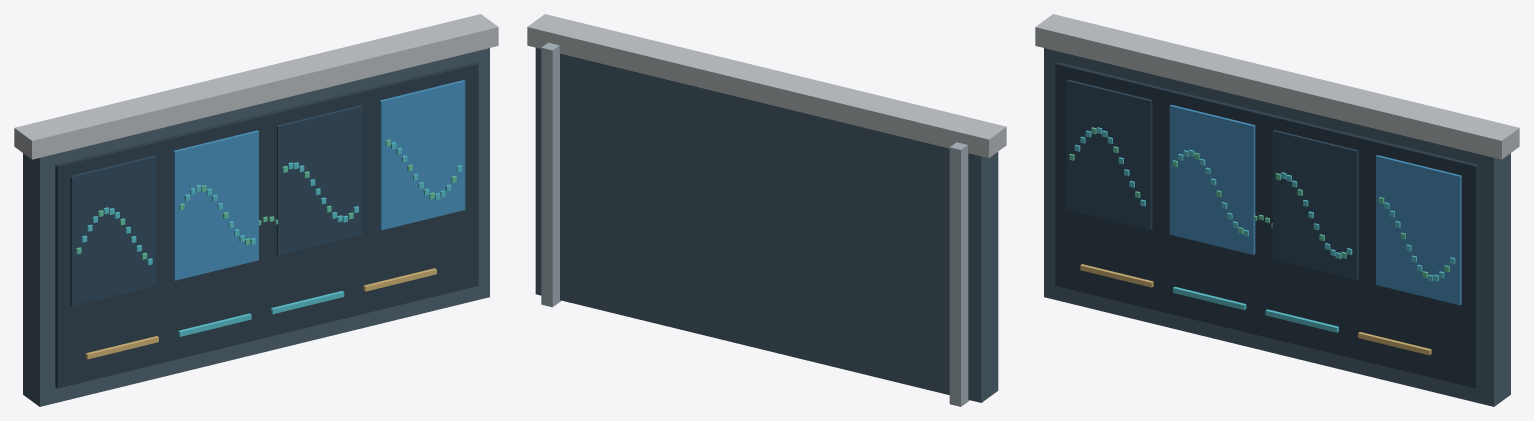
File: 54_L78_HolographicTDDBReliabilityGraph.glb
The picture shows the model from 3 angles, left to right: view 1: azimuth 30°, elevation 25°; view 2: azimuth 150°, elevation 25°; view 3: azimuth 330°, elevation 25°; orthographic projection.
Parts seen in each view (by area): view 1: HolographicTDDBReliabilityGraph_Node_0001, HolographicTDDBReliabilityGraph_Node_0000, HolographicTDDBReliabilityGraph_Node_0068, HolographicTDDBReliabilityGraph_Node_0047, HolographicTDDBReliabilityGraph_Node_0032, HolographicTDDBReliabilityGraph_Node_0017, HolographicTDDBReliabilityGraph_Node_0002, HolographicTDDBReliabilityGraph_Node_0062, HolographicTDDBReliabilityGraph_Node_0063, HolographicTDDBReliabilityGraph_Node_0064, HolographicTDDBReliabilityGraph_Node_0065; view 2: HolographicTDDBReliabilityGraph_Node_0000, HolographicTDDBReliabilityGraph_Node_0068, HolographicTDDBReliabilityGraph_Node_0066, HolographicTDDBReliabilityGraph_Node_0067; view 3: HolographicTDDBReliabilityGraph_Node_0001, HolographicTDDBReliabilityGraph_Node_0000, HolographicTDDBReliabilityGraph_Node_0068, HolographicTDDBReliabilityGraph_Node_0002, HolographicTDDBReliabilityGraph_Node_0017, HolographicTDDBReliabilityGraph_Node_0032, HolographicTDDBReliabilityGraph_Node_0047, HolographicTDDBReliabilityGraph_Node_0062, HolographicTDDBReliabilityGraph_Node_0063, HolographicTDDBReliabilityGraph_Node_0065, HolographicTDDBReliabilityGraph_Node_0064.
Boxes of the visible parts, <box> form: HolographicTDDBReliabilityGraph_Node_0001: <box>55,62,478,388</box>; HolographicTDDBReliabilityGraph_Node_0000: <box>23,48,489,406</box>; HolographicTDDBReliabilityGraph_Node_0068: <box>14,14,498,159</box>; HolographicTDDBReliabilityGraph_Node_0047: <box>379,80,465,230</box>; HolographicTDDBReliabilityGraph_Node_0032: <box>276,105,362,255</box>; HolographicTDDBReliabilityGraph_Node_0017: <box>173,130,258,280</box>; HolographicTDDBReliabilityGraph_Node_0002: <box>70,155,155,305</box>; HolographicTDDBReliabilityGraph_Node_0062: <box>85,336,158,359</box>; HolographicTDDBReliabilityGraph_Node_0063: <box>178,313,251,336</box>; HolographicTDDBReliabilityGraph_Node_0064: <box>271,290,344,314</box>; HolographicTDDBReliabilityGraph_Node_0065: <box>363,268,436,291</box>; HolographicTDDBReliabilityGraph_Node_0000: <box>535,47,998,402</box>; HolographicTDDBReliabilityGraph_Node_0068: <box>527,14,1006,157</box>; HolographicTDDBReliabilityGraph_Node_0066: <box>949,142,969,406</box>; HolographicTDDBReliabilityGraph_Node_0067: <box>541,42,561,307</box>; HolographicTDDBReliabilityGraph_Node_0001: <box>1055,62,1478,388</box>; HolographicTDDBReliabilityGraph_Node_0000: <box>1044,48,1510,406</box>; HolographicTDDBReliabilityGraph_Node_0068: <box>1035,14,1519,159</box>; HolographicTDDBReliabilityGraph_Node_0002: <box>1066,79,1152,229</box>; HolographicTDDBReliabilityGraph_Node_0017: <box>1169,104,1255,254</box>; HolographicTDDBReliabilityGraph_Node_0032: <box>1272,130,1358,280</box>; HolographicTDDBReliabilityGraph_Node_0047: <box>1376,155,1461,305</box>; HolographicTDDBReliabilityGraph_Node_0062: <box>1080,264,1153,287</box>; HolographicTDDBReliabilityGraph_Node_0063: <box>1173,286,1246,310</box>; HolographicTDDBReliabilityGraph_Node_0065: <box>1358,332,1431,355</box>; HolographicTDDBReliabilityGraph_Node_0064: <box>1265,309,1338,332</box>.
Bounding box in the file's own units: 2.86 × 1.58 × 0.324.
